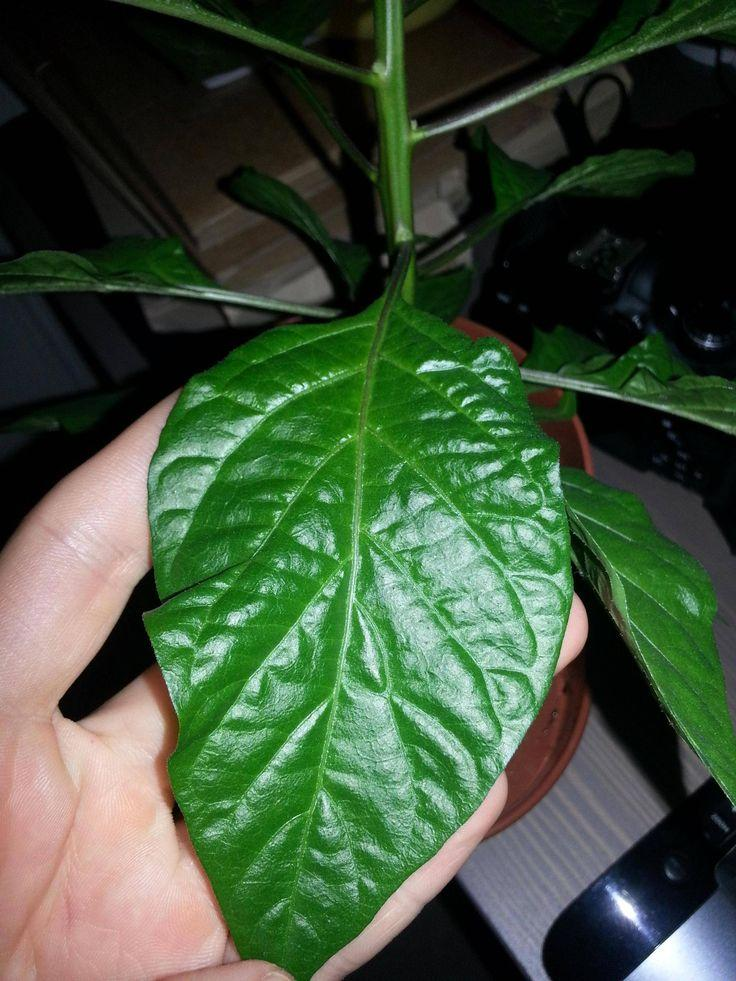Bell_pepper leaf spot: (144, 294, 577, 979)
